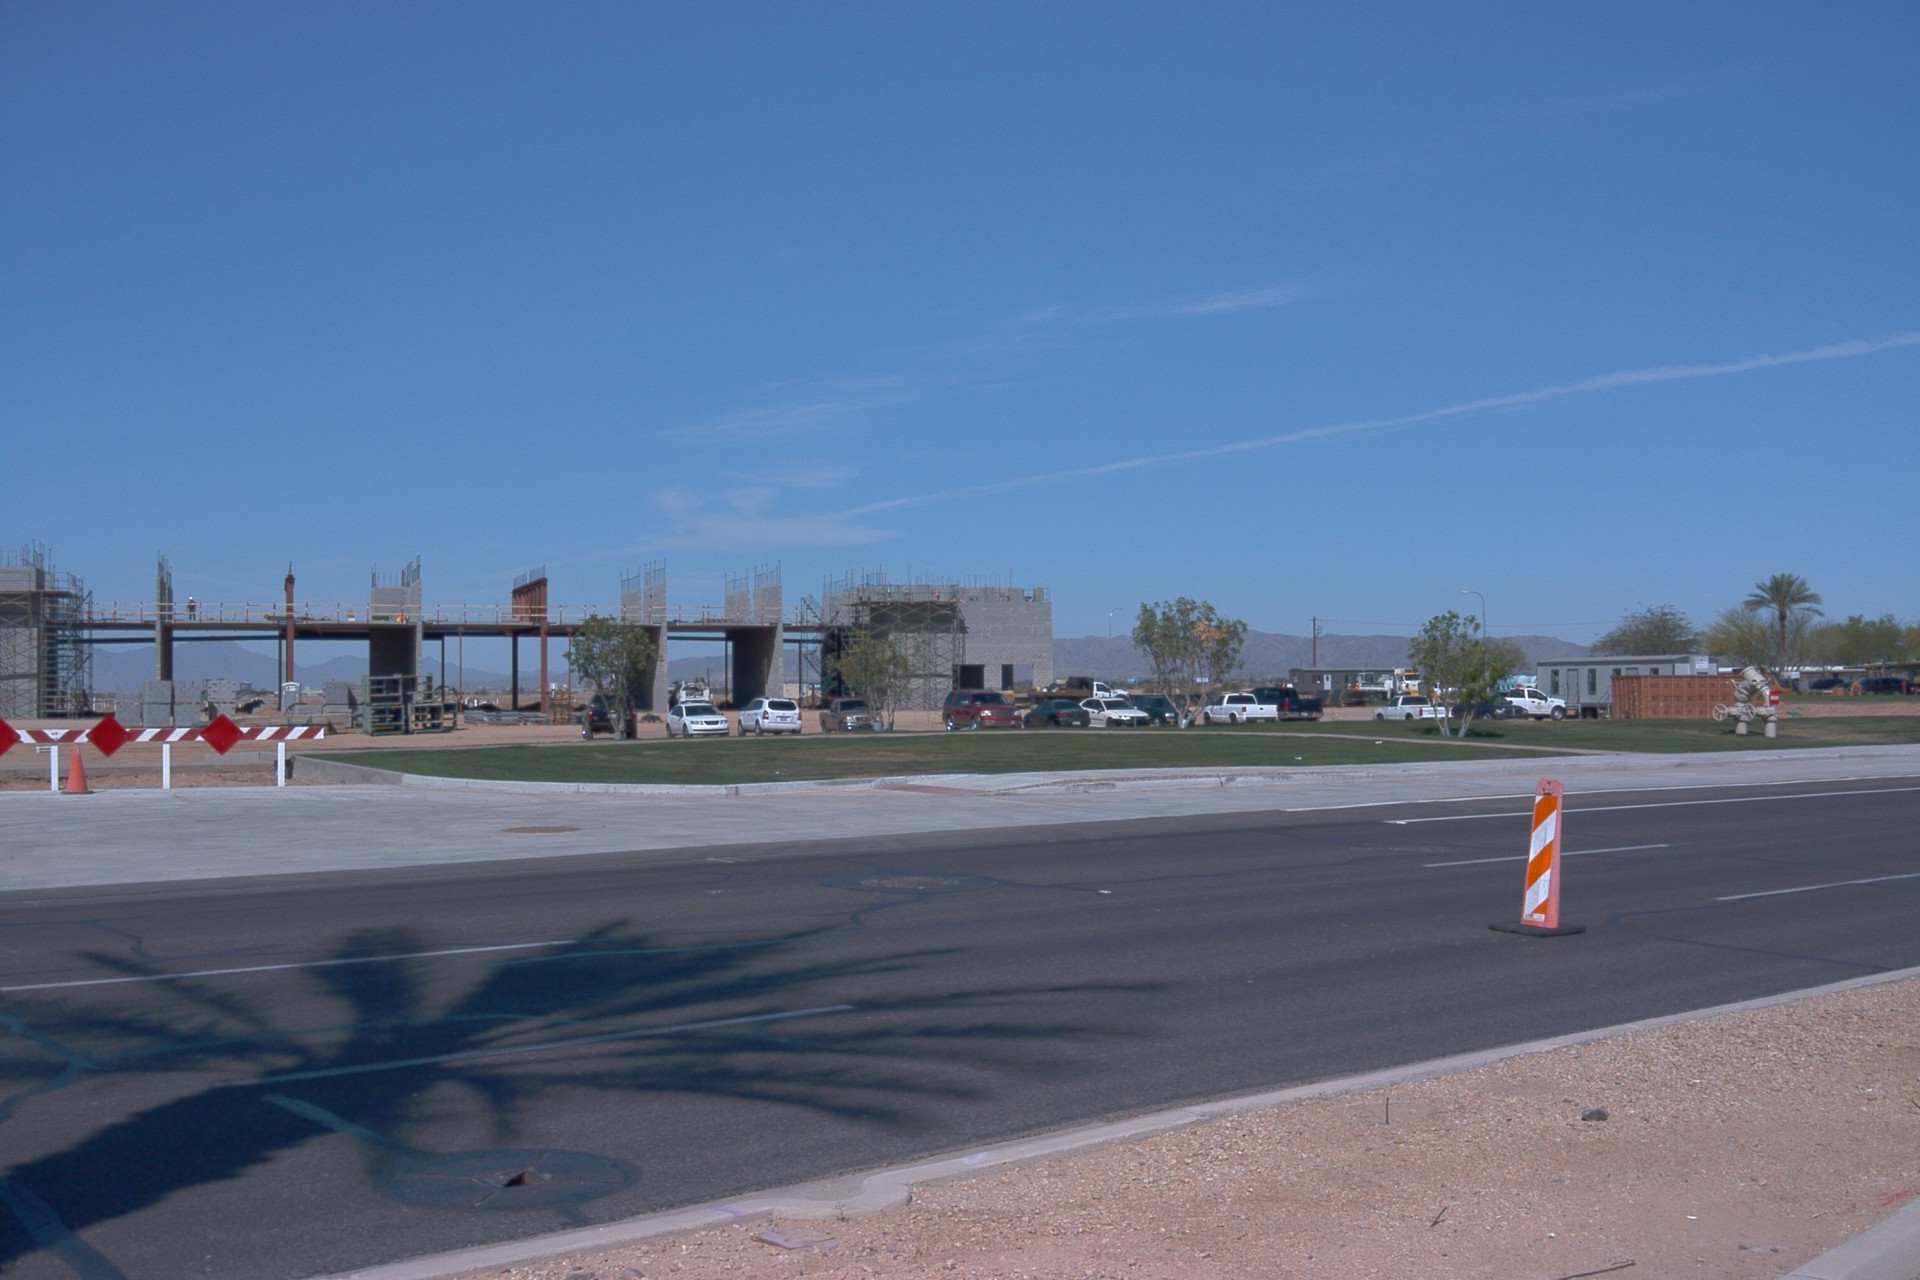TYPE_PEDESTRIAN: (1346, 681, 1354, 692), (1353, 684, 1361, 692)
TYPE_VEHICLE: (941, 688, 1023, 734), (1353, 669, 1440, 710), (1026, 677, 1130, 710), (1248, 682, 1325, 725), (1431, 689, 1527, 723), (1204, 686, 1282, 727), (578, 689, 639, 741), (1490, 685, 1568, 725), (737, 694, 804, 739), (663, 701, 729, 744), (816, 695, 880, 737), (1077, 696, 1152, 731), (1028, 696, 1095, 732), (1133, 695, 1197, 730), (663, 677, 711, 718), (1373, 694, 1453, 718), (1471, 675, 1536, 697), (423, 681, 465, 706), (1861, 678, 1906, 698), (1807, 676, 1851, 693)
